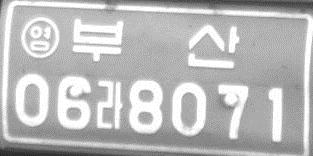0: (170, 81, 208, 137), (14, 72, 49, 128)
1: (257, 86, 292, 143)
6: (55, 74, 92, 130)
7: (216, 83, 250, 141)
8: (128, 78, 164, 137)
라: (96, 78, 123, 130)
부산_D: (71, 17, 240, 69)
영: (19, 16, 61, 60)
